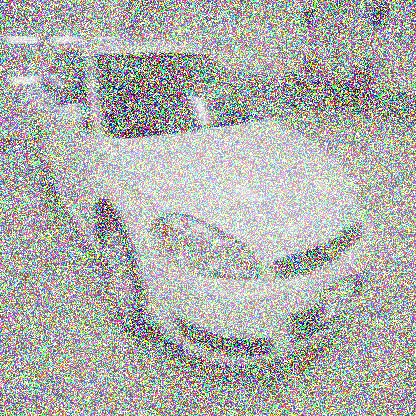Vehicle: (30, 39, 375, 369)
